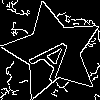A: (28, 27, 86, 84)
